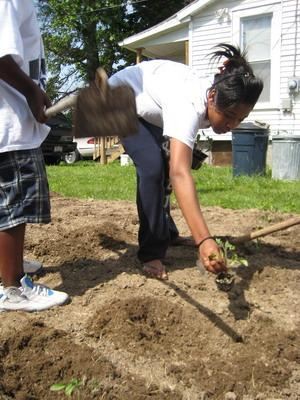person: (103, 43, 265, 282)
